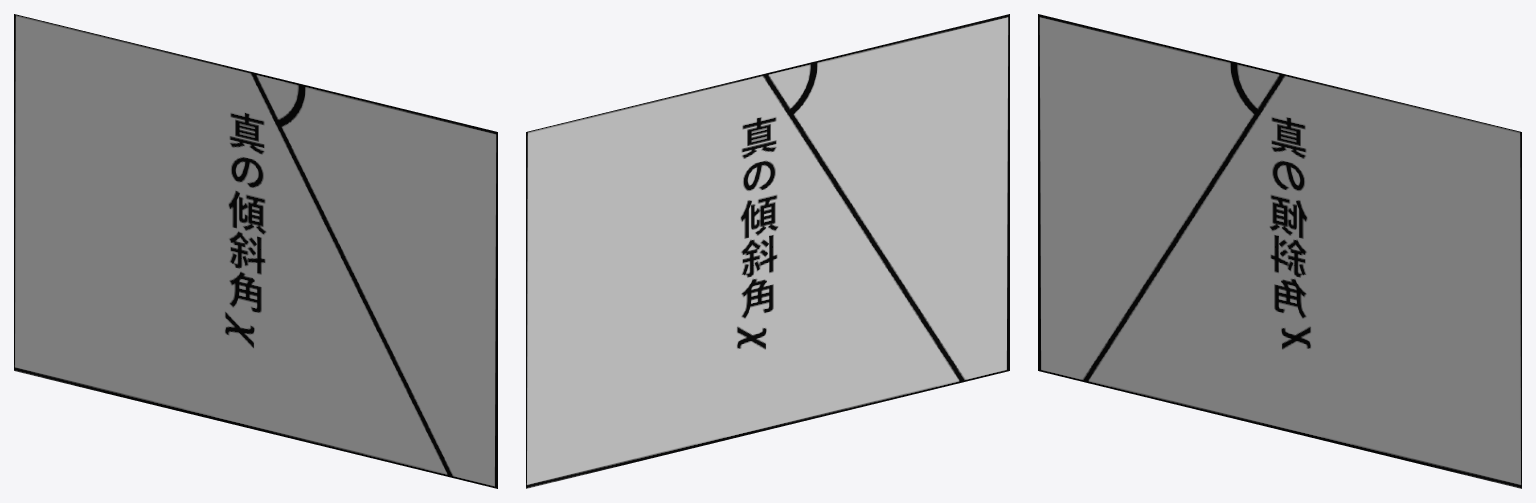
The model's file is turegazou.glb.
The picture shows the model from 3 angles, left to right: view 1: azimuth 90°, elevation 25°; view 2: azimuth 150°, elevation 25°; view 3: azimuth 270°, elevation 25°; orthographic projection.
Parts seen in each view (by area): view 1: turegazou; view 2: turegazou; view 3: turegazou.
Boxes of the visible parts, box(x1,y1,x2,y2) form: turegazou: box(14, 14, 497, 488); turegazou: box(526, 14, 1009, 488); turegazou: box(1038, 14, 1521, 488).
Bounding box in the file's own units: 2.46 × 3.47 × 4.26.
Materials: 1 (1 with a texture image).
